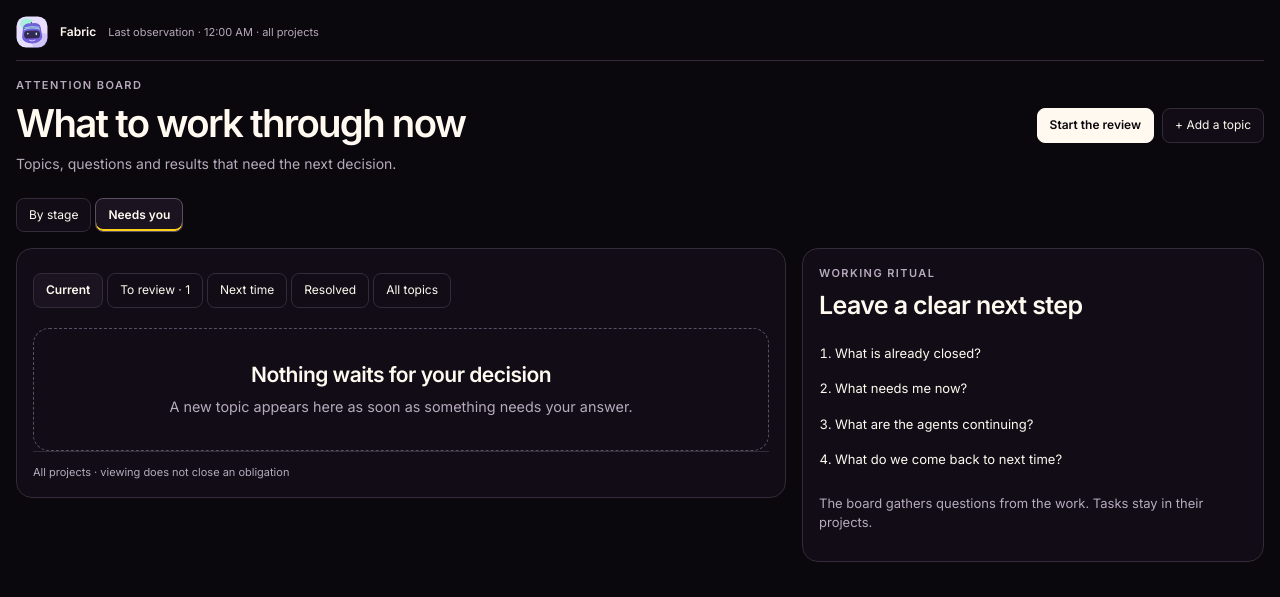
a proposal cannot be decided twice › but a refusal leaves the row decidable, because nothing was decided
Click the button "To review · 1" at (155, 291), box x1=107 y1=273 x2=203 y2=308
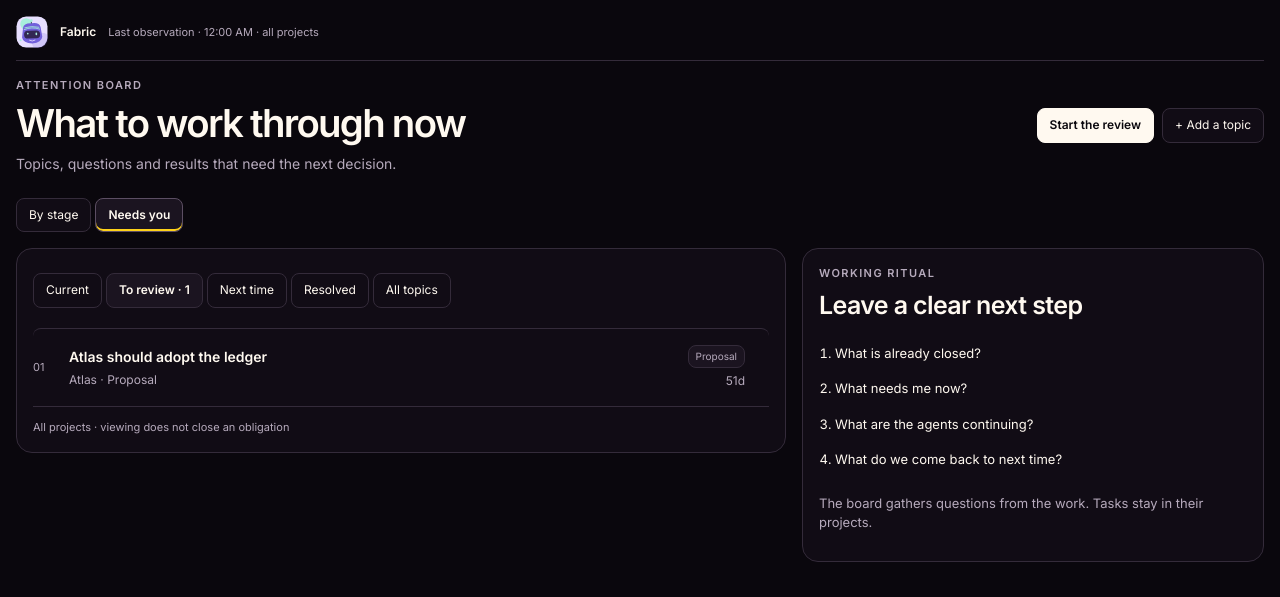
Click the text "Atlas should adopt the ledger" at (168, 357), box x1=69 y1=348 x2=267 y2=365
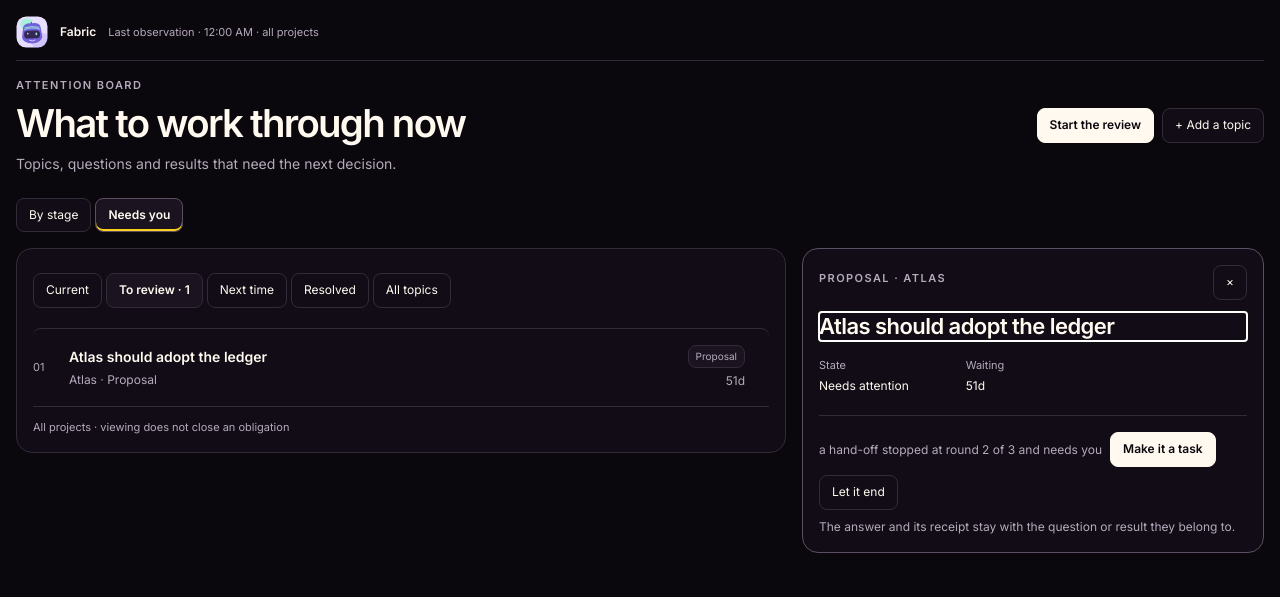
Click the button "Make it a task" at (1163, 450), box x1=1110 y1=432 x2=1216 y2=467
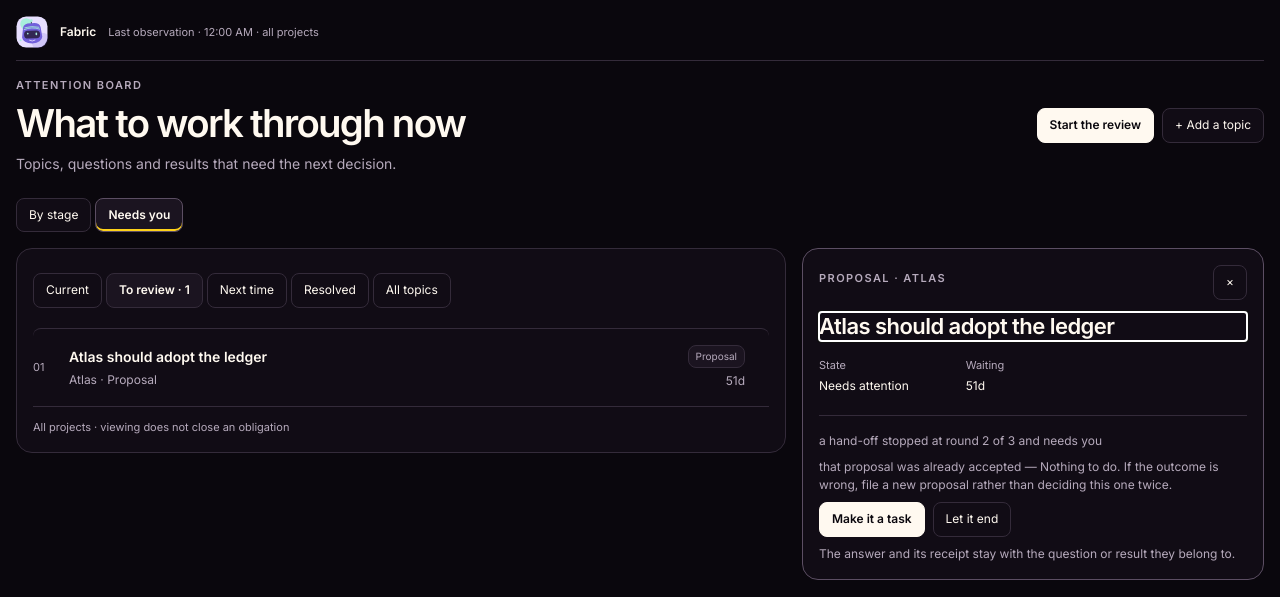
Now the button "Make it a task" is shown, box x1=819 y1=502 x2=925 y2=537
Now the message is shown, box x1=819 y1=458 x2=1247 y2=494
